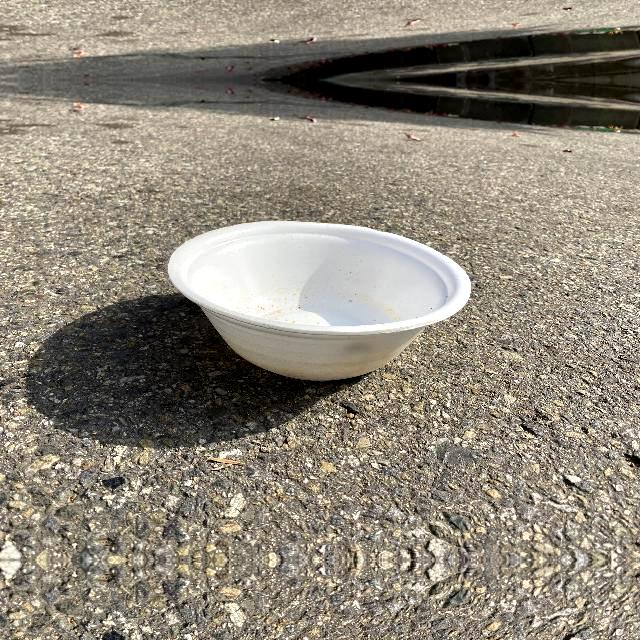Styrofoam: (167, 221, 471, 383), (167, 221, 472, 380)
